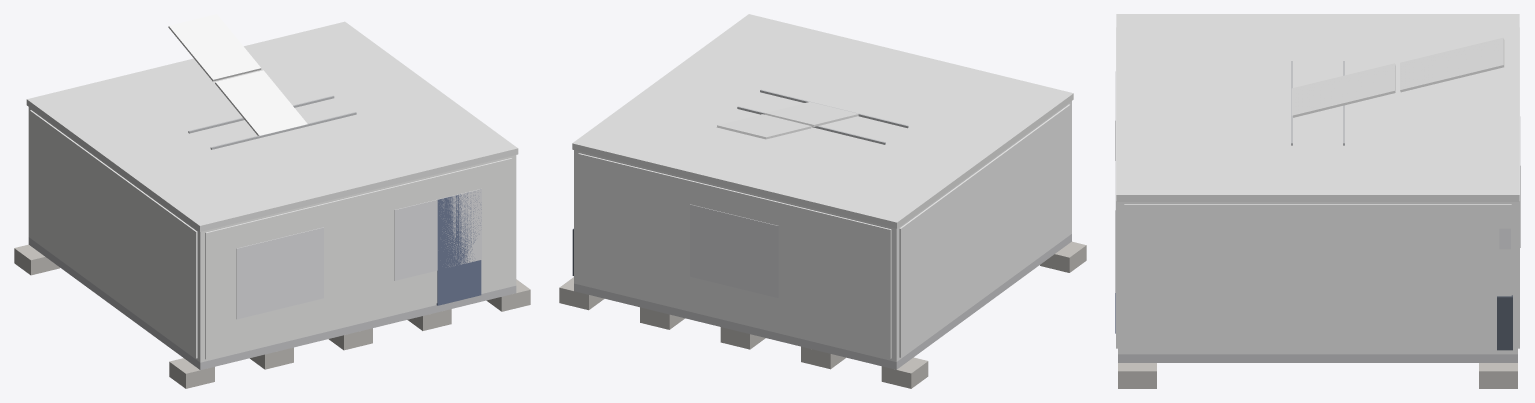
Rendered from Studio-20-Premium+FullSolar-LOD1.glb.
3 renders of one model, left to right at view 1: azimuth 30°, elevation 25°; view 2: azimuth 150°, elevation 25°; view 3: azimuth 270°, elevation 25°, orthographic. The views are drawn at different scales.
Visible parts, largest first — view 1: RoofMain, ExteriorPanelsPremium, WindowsLargeUpgrade, SolarPanelArray, FoundationBlocks, ExteriorShell, BaseFrame, EntryDoor, SolarMountingHardware; view 2: ExteriorPanelsPremium, RoofMain, WindowsLargeUpgrade, FoundationBlocks, ExteriorShell, BaseFrame, SolarPanelArray, SolarMountingHardware; view 3: RoofMain, ExteriorPanelsPremium, SolarPanelArray, ExteriorShell, BaseFrame, FoundationBlocks, SolarBattery, WindowsLargeUpgrade.
Boxes of the visible parts, left/top/right/bottom form: RoofMain: left=26, top=21, right=518, bottom=231; ExteriorPanelsPremium: left=30, top=110, right=512, bottom=359; WindowsLargeUpgrade: left=236, top=189, right=481, bottom=319; SolarPanelArray: left=168, top=14, right=307, bottom=135; FoundationBlocks: left=14, top=244, right=530, bottom=388; ExteriorShell: left=28, top=107, right=516, bottom=362; BaseFrame: left=28, top=237, right=516, bottom=370; EntryDoor: left=436, top=189, right=481, bottom=305; SolarMountingHardware: left=188, top=95, right=356, bottom=149; ExteriorPanelsPremium: left=578, top=104, right=1070, bottom=358; RoofMain: left=572, top=14, right=1073, bottom=228; WindowsLargeUpgrade: left=690, top=204, right=778, bottom=298; FoundationBlocks: left=559, top=241, right=1086, bottom=388; ExteriorShell: left=574, top=101, right=1071, bottom=361; BaseFrame: left=574, top=234, right=1071, bottom=369; SolarPanelArray: left=716, top=102, right=858, bottom=139; SolarMountingHardware: left=737, top=89, right=908, bottom=144; RoofMain: left=1116, top=14, right=1519, bottom=201; ExteriorPanelsPremium: left=1116, top=27, right=1519, bottom=352; SolarPanelArray: left=1291, top=37, right=1504, bottom=117; ExteriorShell: left=1118, top=202, right=1517, bottom=354; BaseFrame: left=1118, top=354, right=1517, bottom=362; FoundationBlocks: left=1118, top=363, right=1517, bottom=388; SolarBattery: left=1497, top=295, right=1512, bottom=350; WindowsLargeUpgrade: left=1115, top=71, right=1520, bottom=292.
Bounding box in the file's own units: 7.14 × 4.07 × 6.24.
